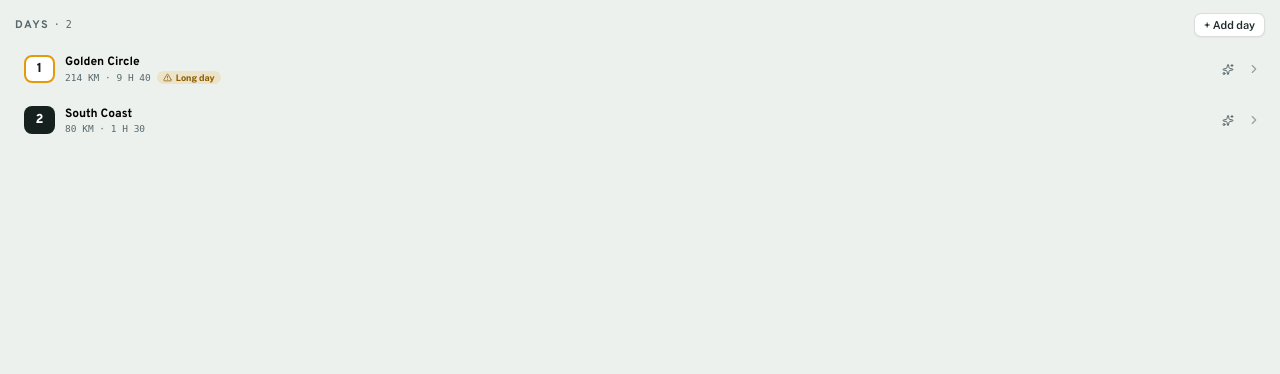
Test: DayRail › chevron expands stops; multiple days expand independently
The image size is (1280, 374).
Click the 1st button named "Toggle stops" at (1254, 69), box [1240, 47, 1268, 91]
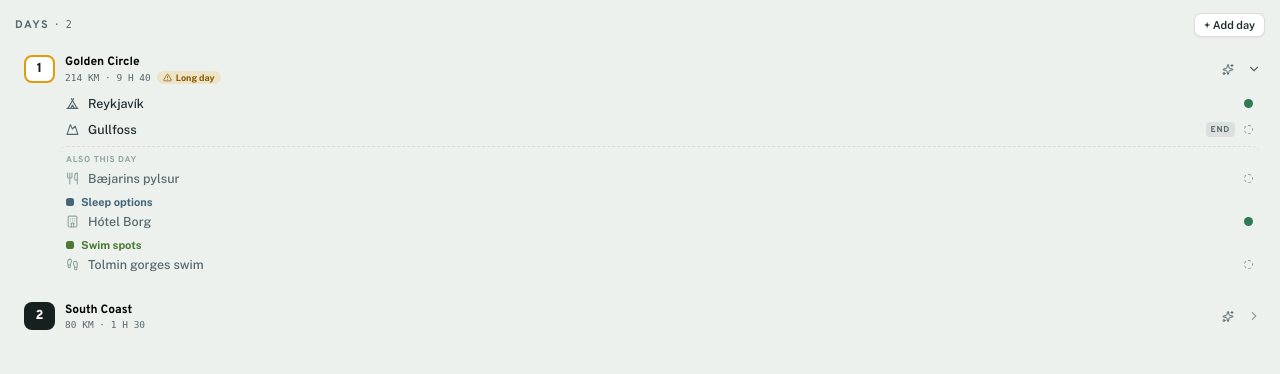
Expected: the text "Reykjavík" is shown, [88, 96, 144, 111]
Expected: the text "END" is shown, [1206, 122, 1235, 137]
Click the 2nd button named "Toggle stops" at (1254, 316), box [1240, 295, 1268, 337]
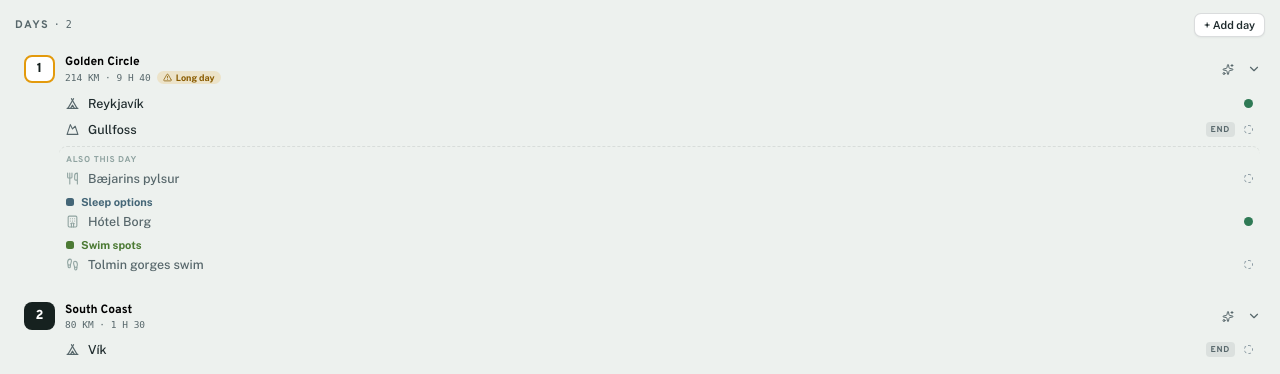
Expected: the text "Reykjavík" is shown, [88, 96, 144, 111]
Expected: the text "Vík" is shown, [88, 342, 107, 357]
Click the 1st button named "Toggle stops" at (1254, 69), box [1240, 47, 1268, 91]
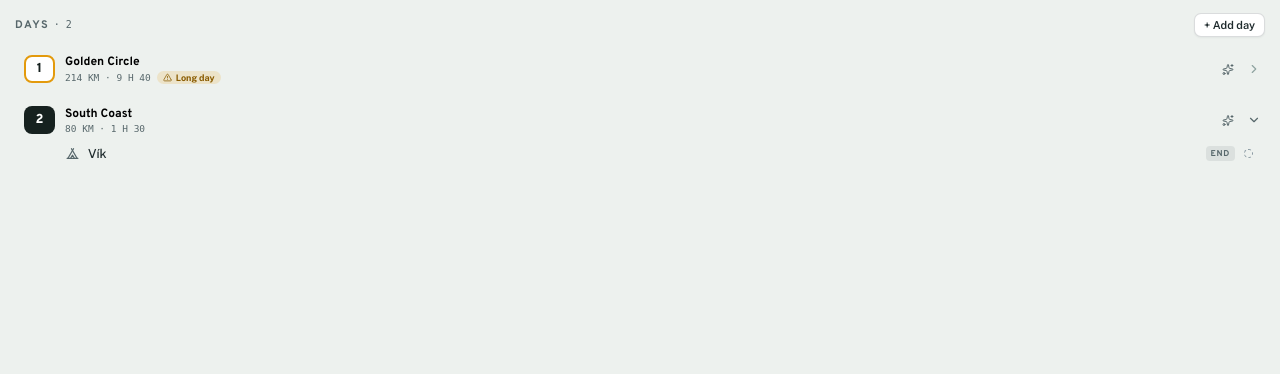
Expected: the text "Vík" is shown, [88, 146, 107, 161]
Expected: the button "Reykjavík" is gone
